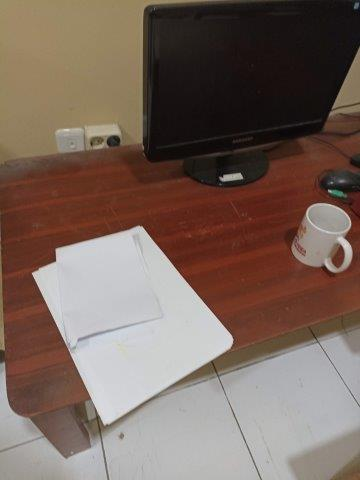kertas: (33, 225, 234, 425)
